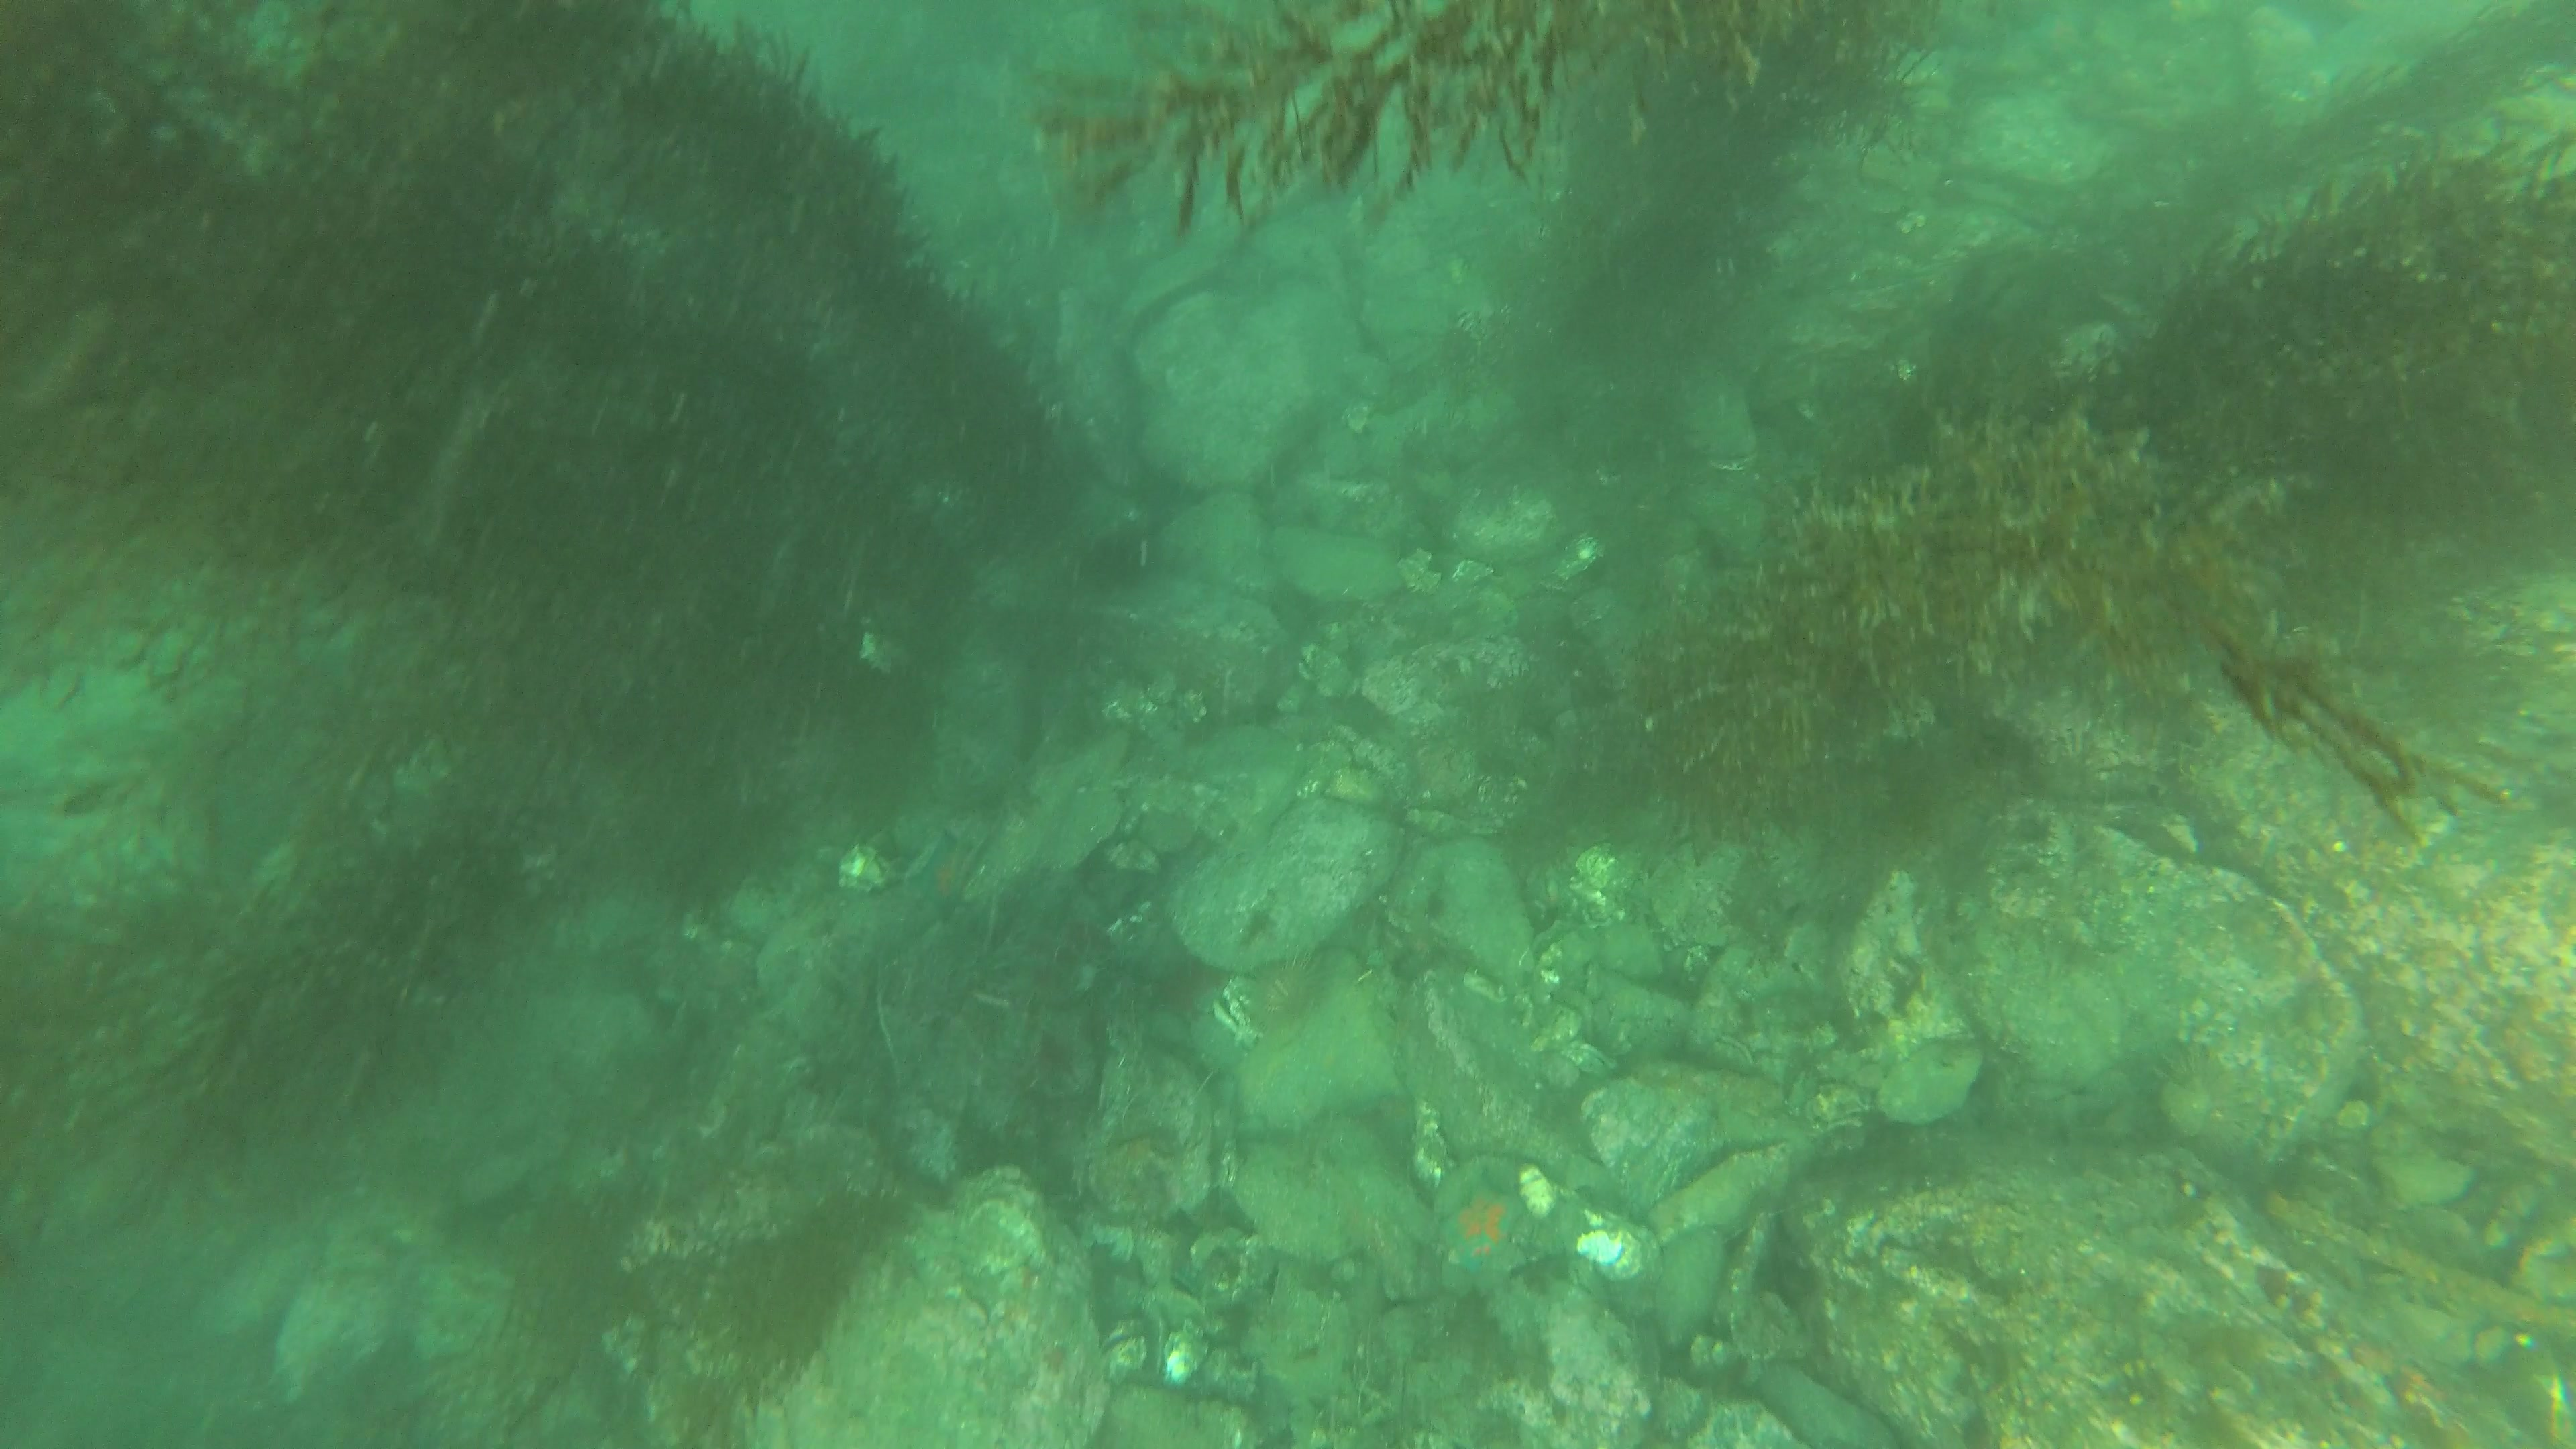echinus: (2155, 1026, 2245, 1136), (1235, 952, 1330, 1028)
starfish: (1440, 1171, 1523, 1263), (901, 830, 980, 909)
